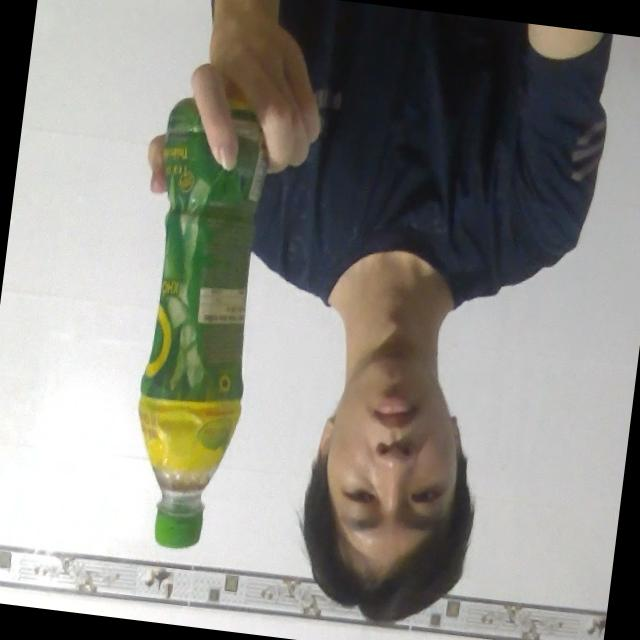tra xanh khong do: (79, 80, 297, 559)
